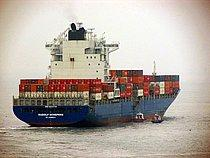Ship: (10, 20, 185, 132)
